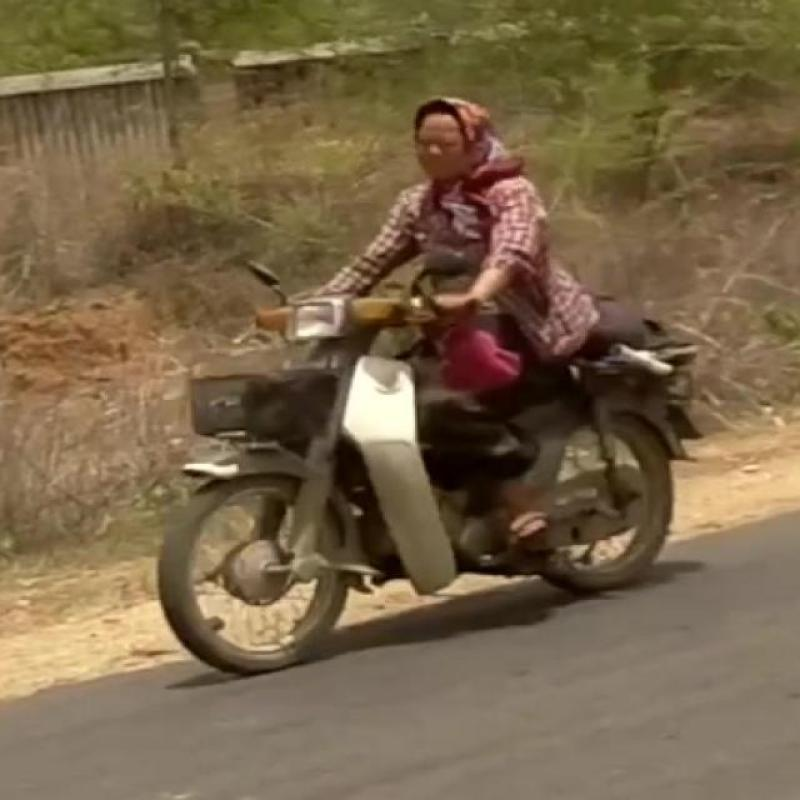nohelmet: (359, 79, 521, 205)
